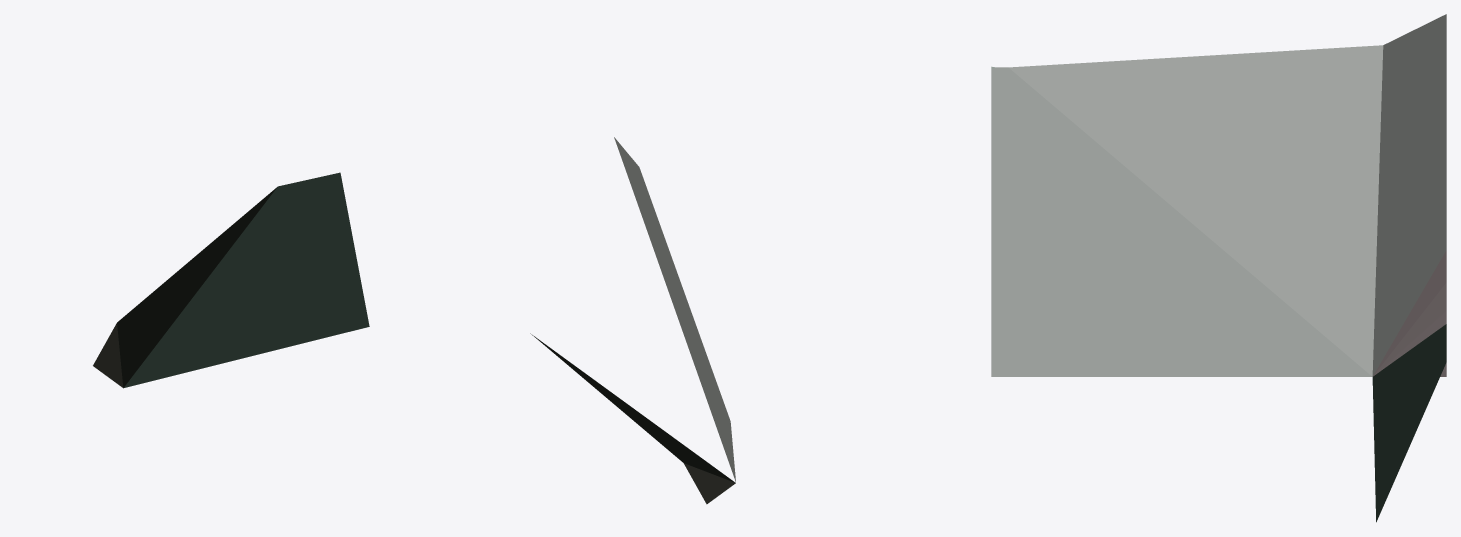
The picture shows the model from 3 angles, left to right: view 1: azimuth 30°, elevation 25°; view 2: azimuth 150°, elevation 25°; view 3: azimuth 270°, elevation 25°; orthographic projection. The views are drawn at different scales.
Size of the model in its own units: 0.983 by 0.9637 by 0.983.
1 material, 1 textured.
